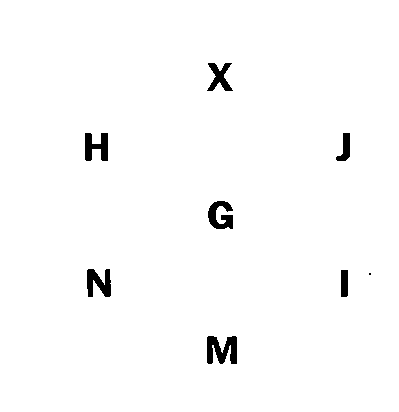I: (332, 263, 357, 308)
